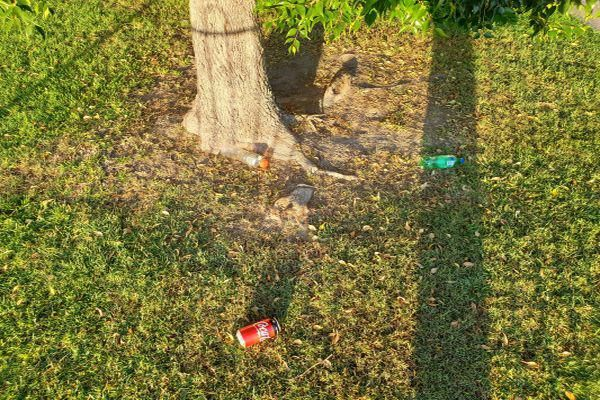Plastic Bottle: (236, 317, 281, 348), (220, 143, 269, 169), (418, 154, 465, 169)
